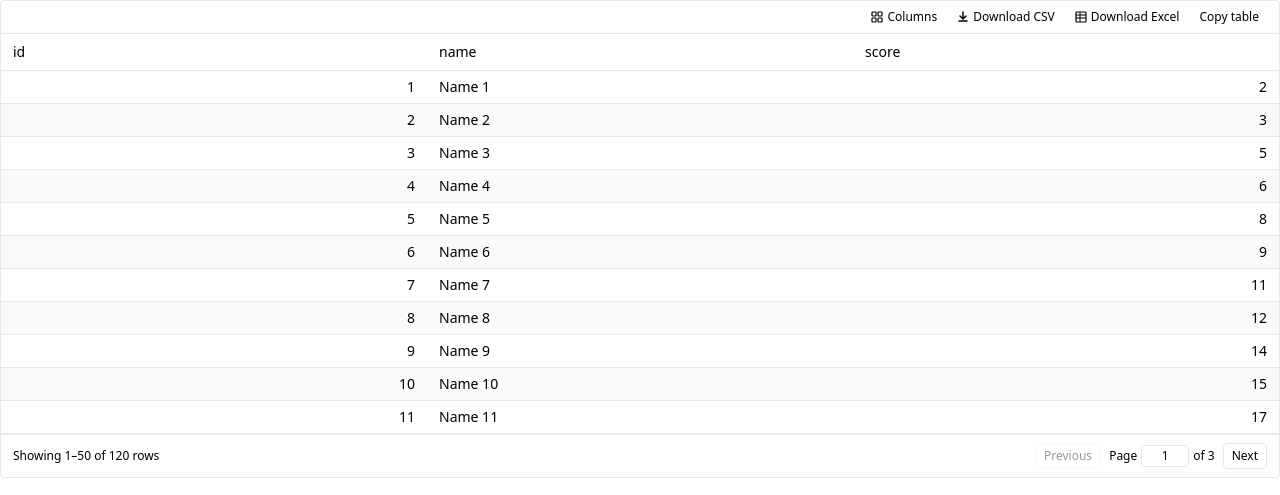
Scenario: DG-PAGE-JUMP: Jump-to-page input › clamps values below 1 to the first page
Replace the text in the number field named "Go to page" with "0" at (1165, 456), box [1141,445,1189,467]
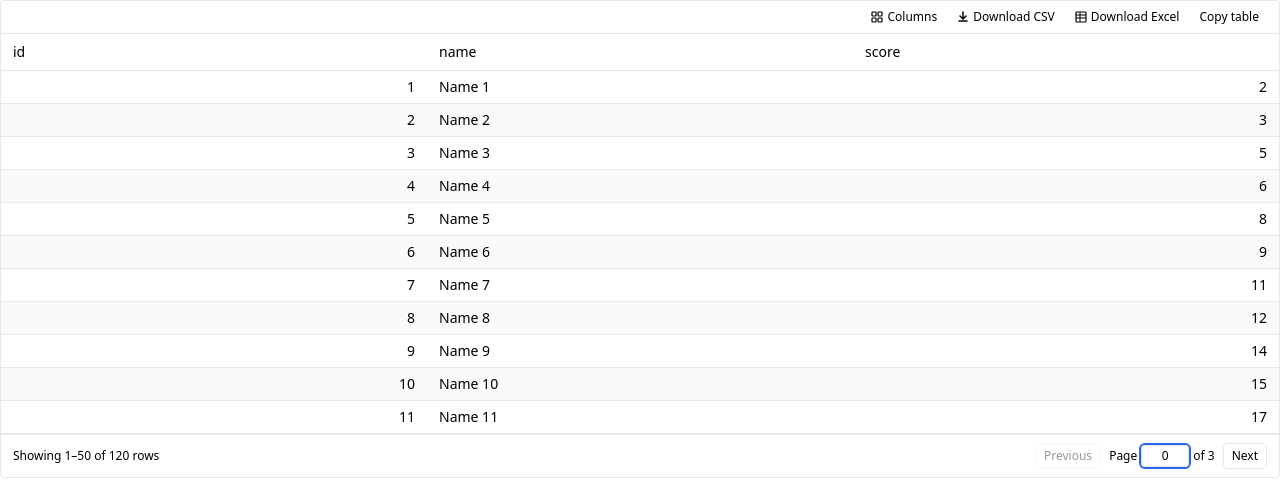
Press Enter
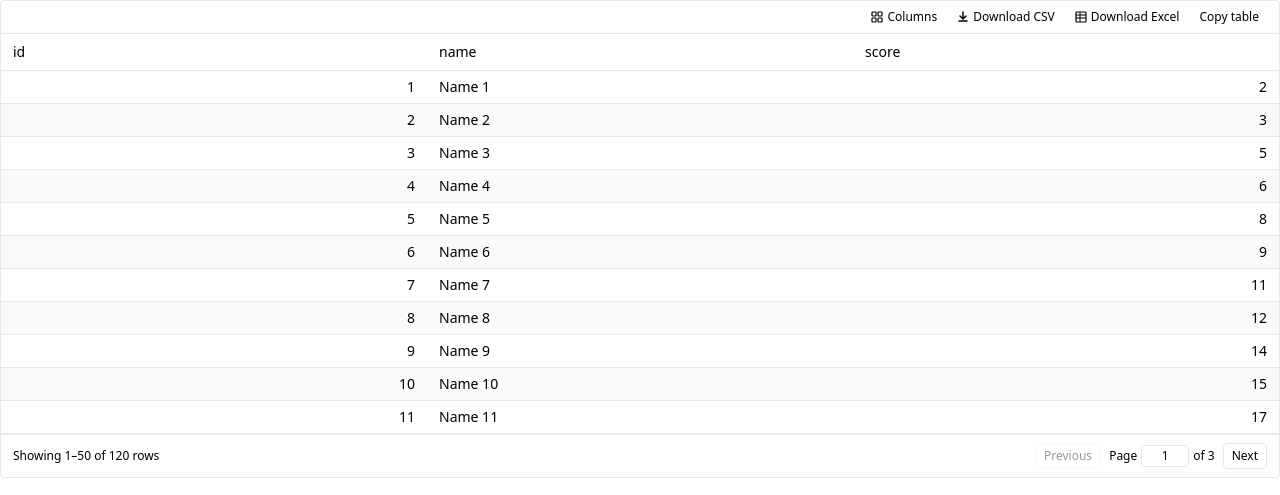
expect the number field named "Go to page" holds "1": met, box [1141,445,1189,467]
